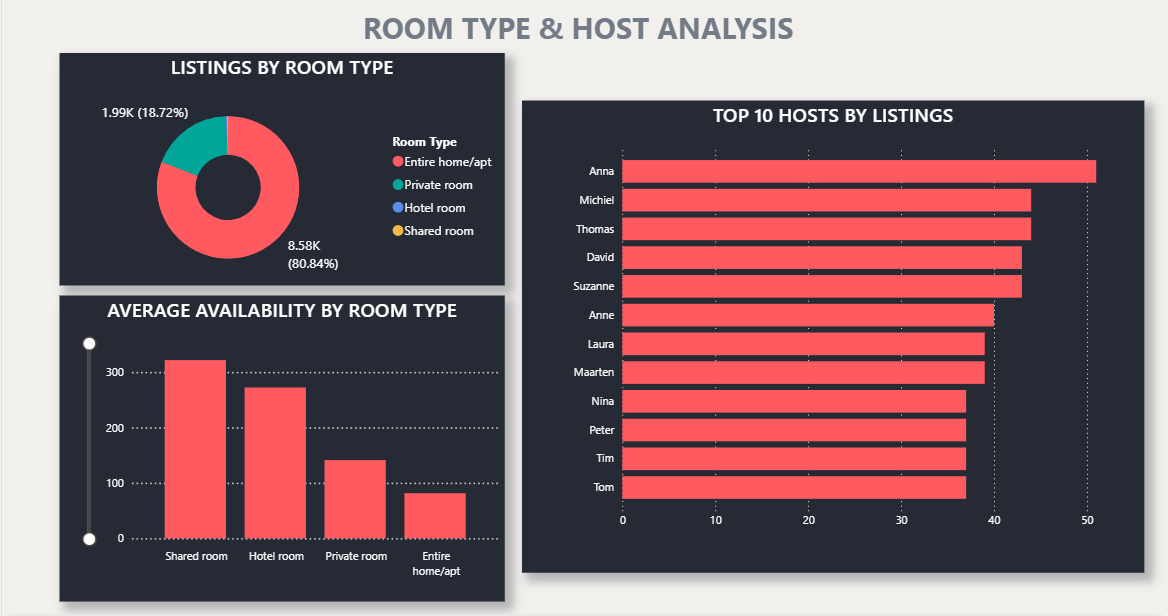

This screenshot's page, from the dashboard's own definition file:
{"tool":"powerbi","page":{"name":"Page 3","canvas":[1280,720],"ordinal":2},"visuals":[{"type":"textbox","box":[11,49.4,1243.2,54.9],"z":0},{"type":"donutChart","title":"LISTINGS BY ROOM TYPE","fields":{"Category":["Airbnb_Data.room_type"],"Y":["CountNonNull(Airbnb_Data.id)"]},"box":[63.1,104.3,488.5,255.2],"z":1000},{"type":"clusteredBarChart","title":"TOP 10 HOSTS BY LISTINGS","fields":{"Category":["Airbnb_Data.host_name"],"Y":["CountNonNull(Airbnb_Data.id)"]},"box":[570.8,156.4,683.4,518.7],"z":2000},{"type":"clusteredColumnChart","title":"AVERAGE AVAILABILITY BY ROOM TYPE","fields":{"Category":["Airbnb_Data.room_type"],"Y":["Avg(Airbnb_Data.availability_365)"]},"box":[63.1,370.5,488.5,336.2],"z":3000}]}

Visuals, with their boxes in screenshot pixels (x1, y1, x2, y2):
textbox: 10:2:1140:52
"LISTINGS BY ROOM TYPE" donutChart: 57:52:501:284
"TOP 10 HOSTS BY LISTINGS" clusteredBarChart: 519:100:1140:571
"AVERAGE AVAILABILITY BY ROOM TYPE" clusteredColumnChart: 57:294:501:600
